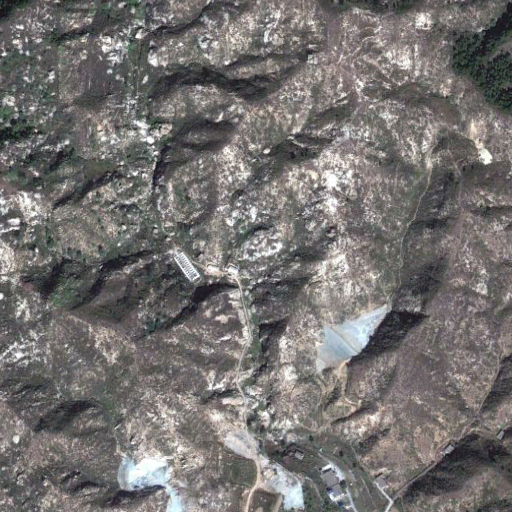tp: (314, 301, 389, 376)
